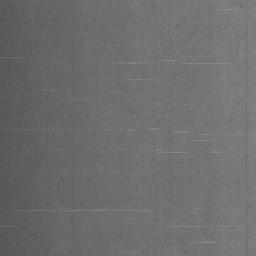Waist folding: (105, 125, 256, 155), (168, 207, 256, 245), (0, 207, 151, 229), (108, 58, 228, 82), (222, 2, 256, 12), (0, 127, 54, 132), (155, 101, 187, 107), (0, 55, 20, 60)
